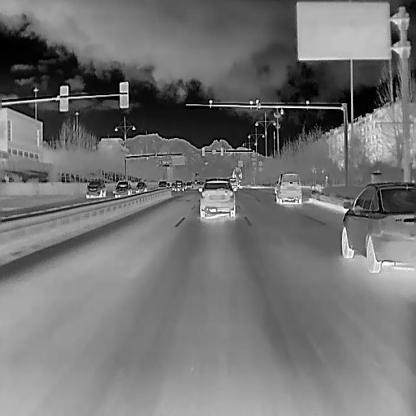car: (342, 182, 416, 272), (198, 178, 236, 218), (274, 171, 302, 204), (85, 180, 106, 198), (114, 181, 132, 197), (231, 166, 242, 188), (134, 181, 147, 193), (228, 176, 238, 190), (174, 179, 184, 191), (156, 180, 166, 189), (185, 180, 192, 188), (193, 178, 198, 184)
